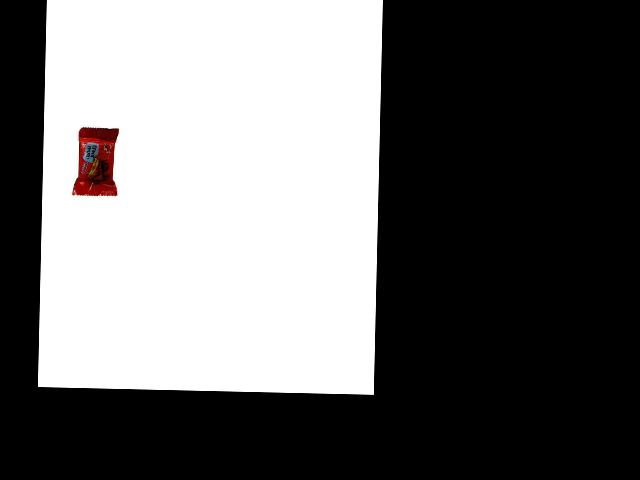chocolate: (68, 121, 118, 196)
